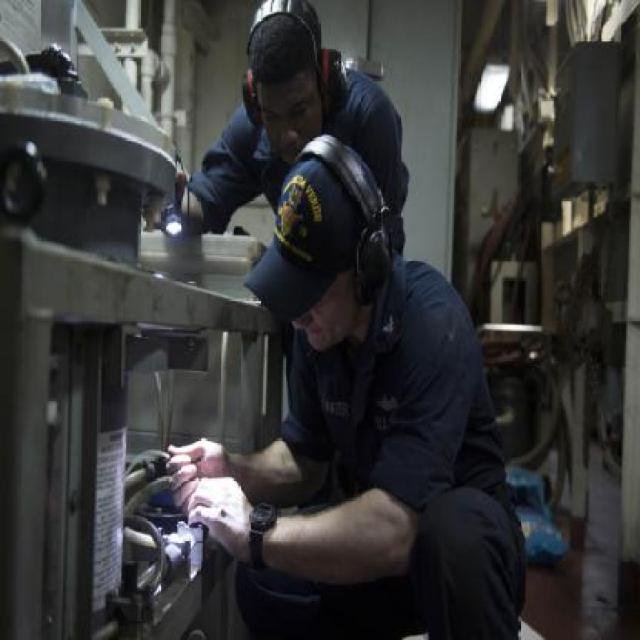earphone: (300, 137, 408, 293), (225, 2, 352, 116)
watch: (248, 480, 282, 593)
